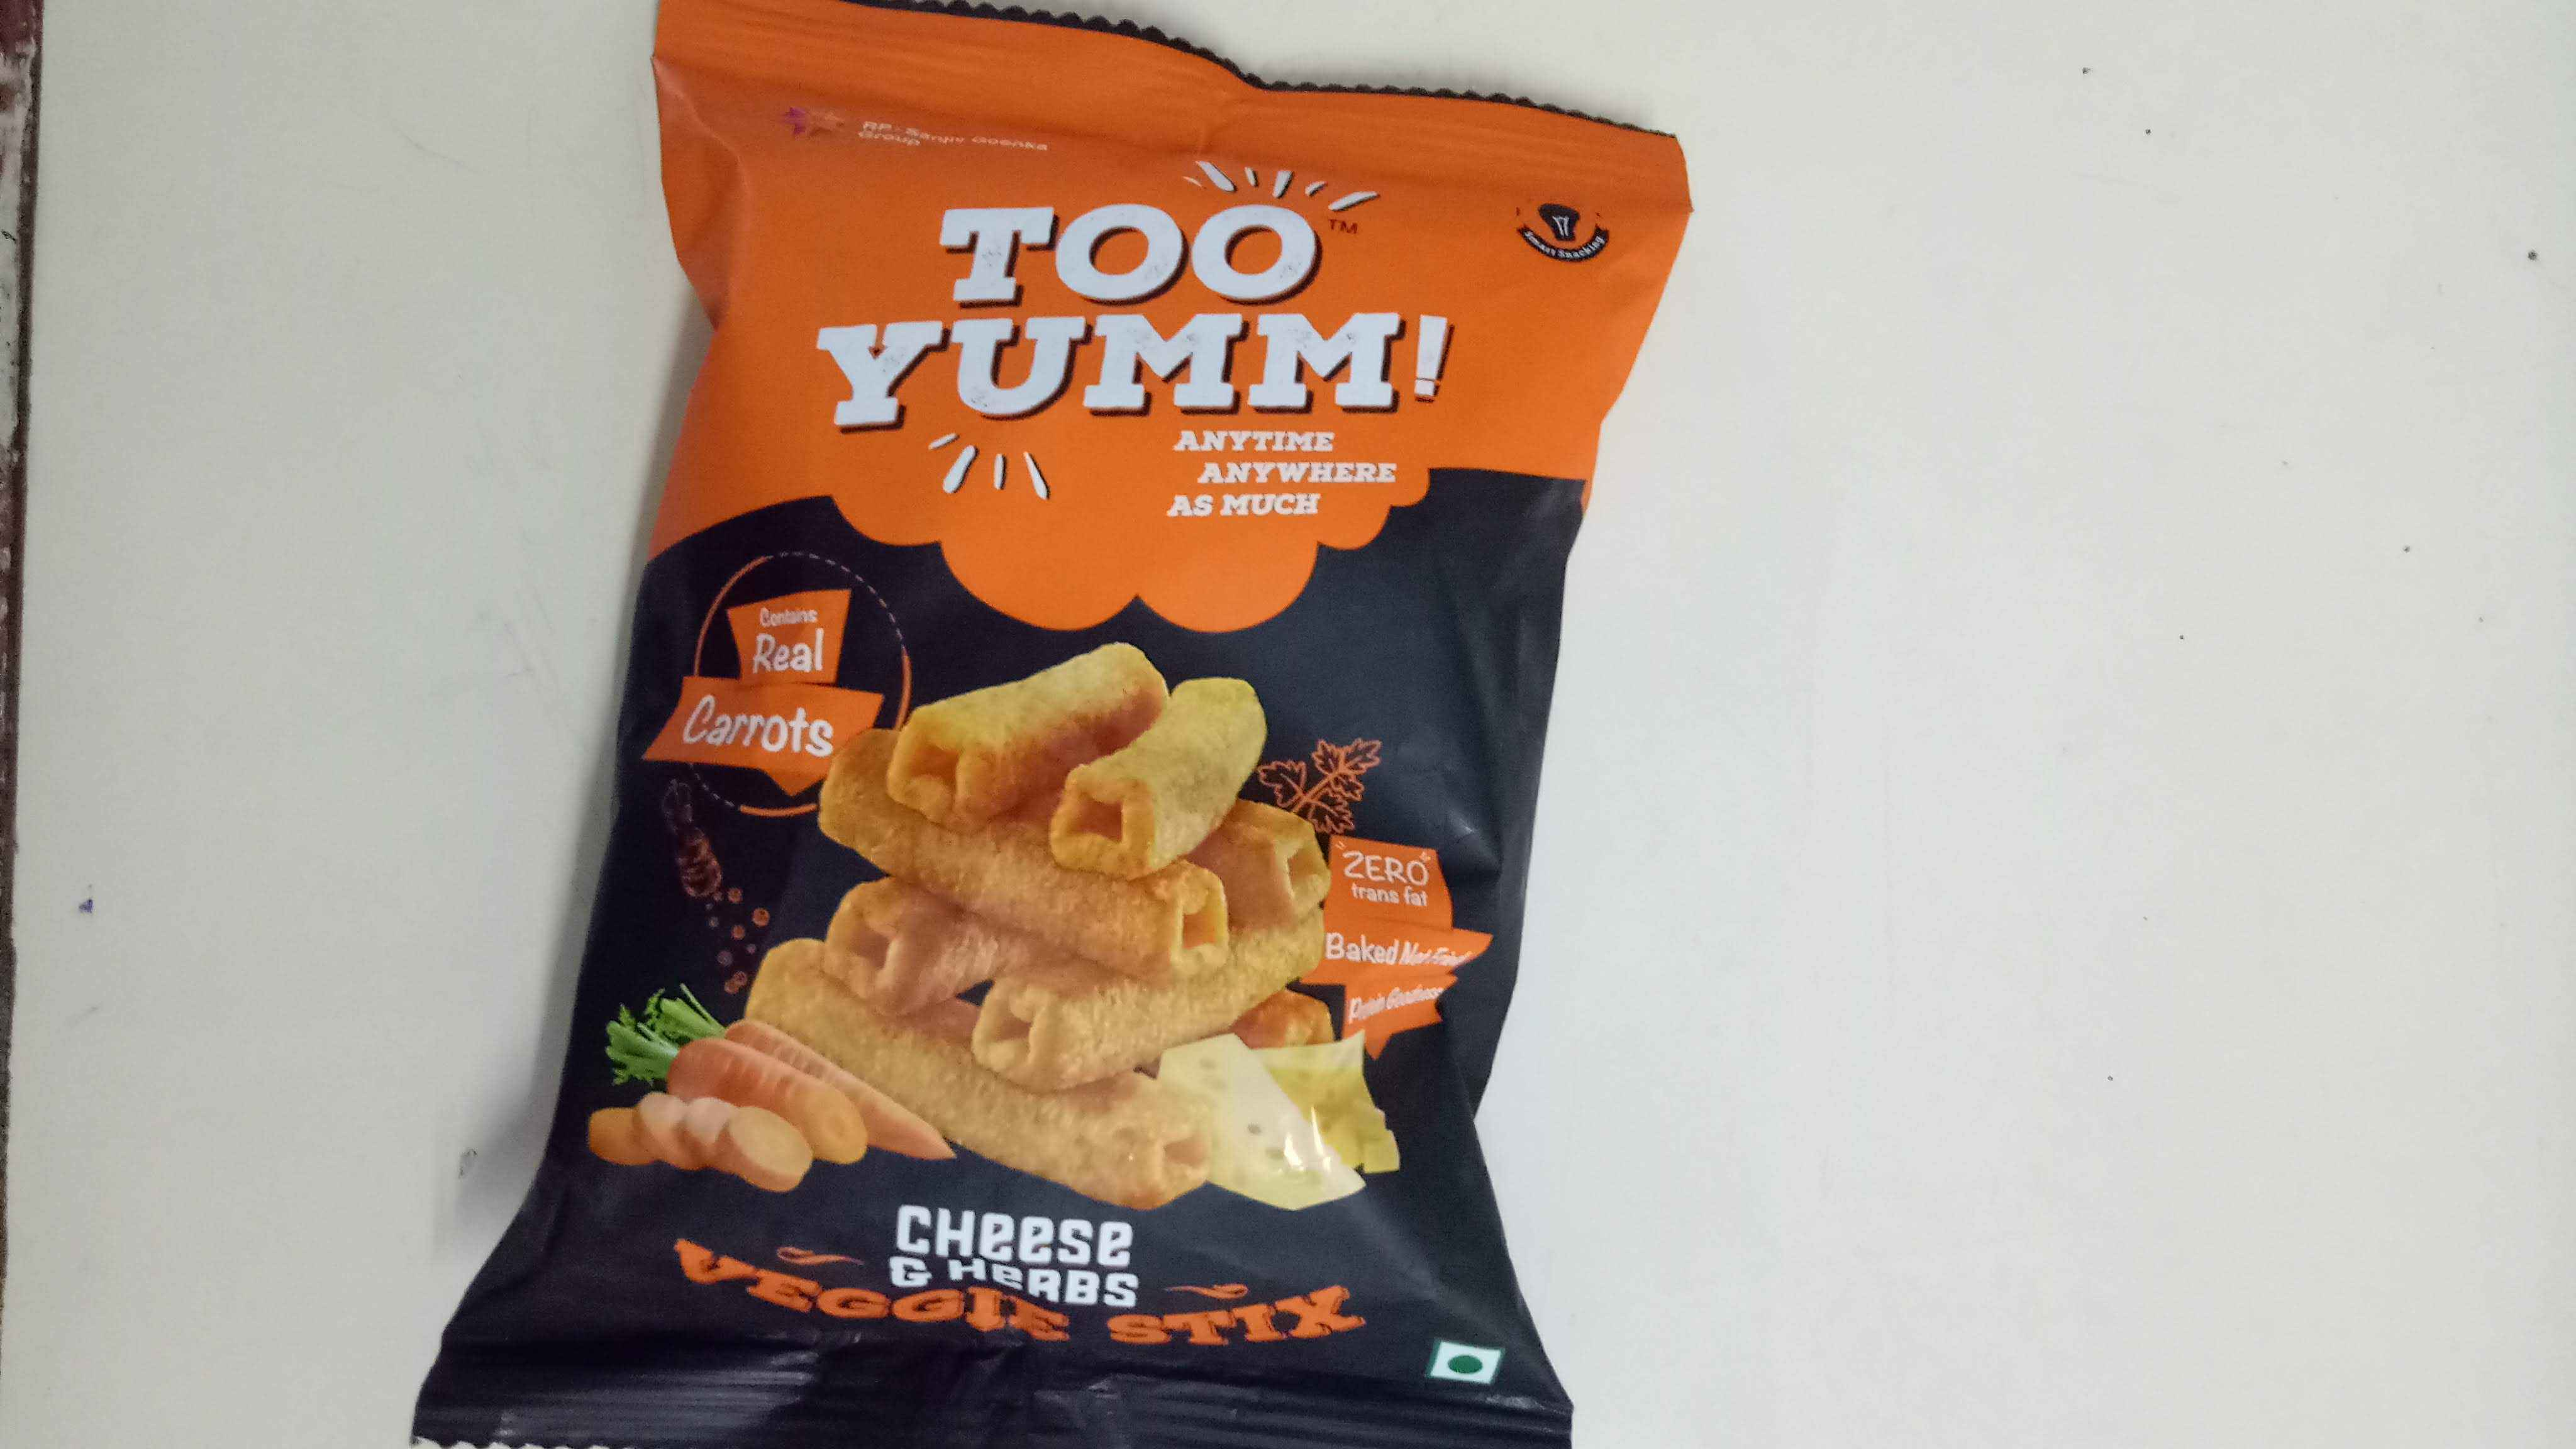tooyumm: (812, 180, 1468, 471)
